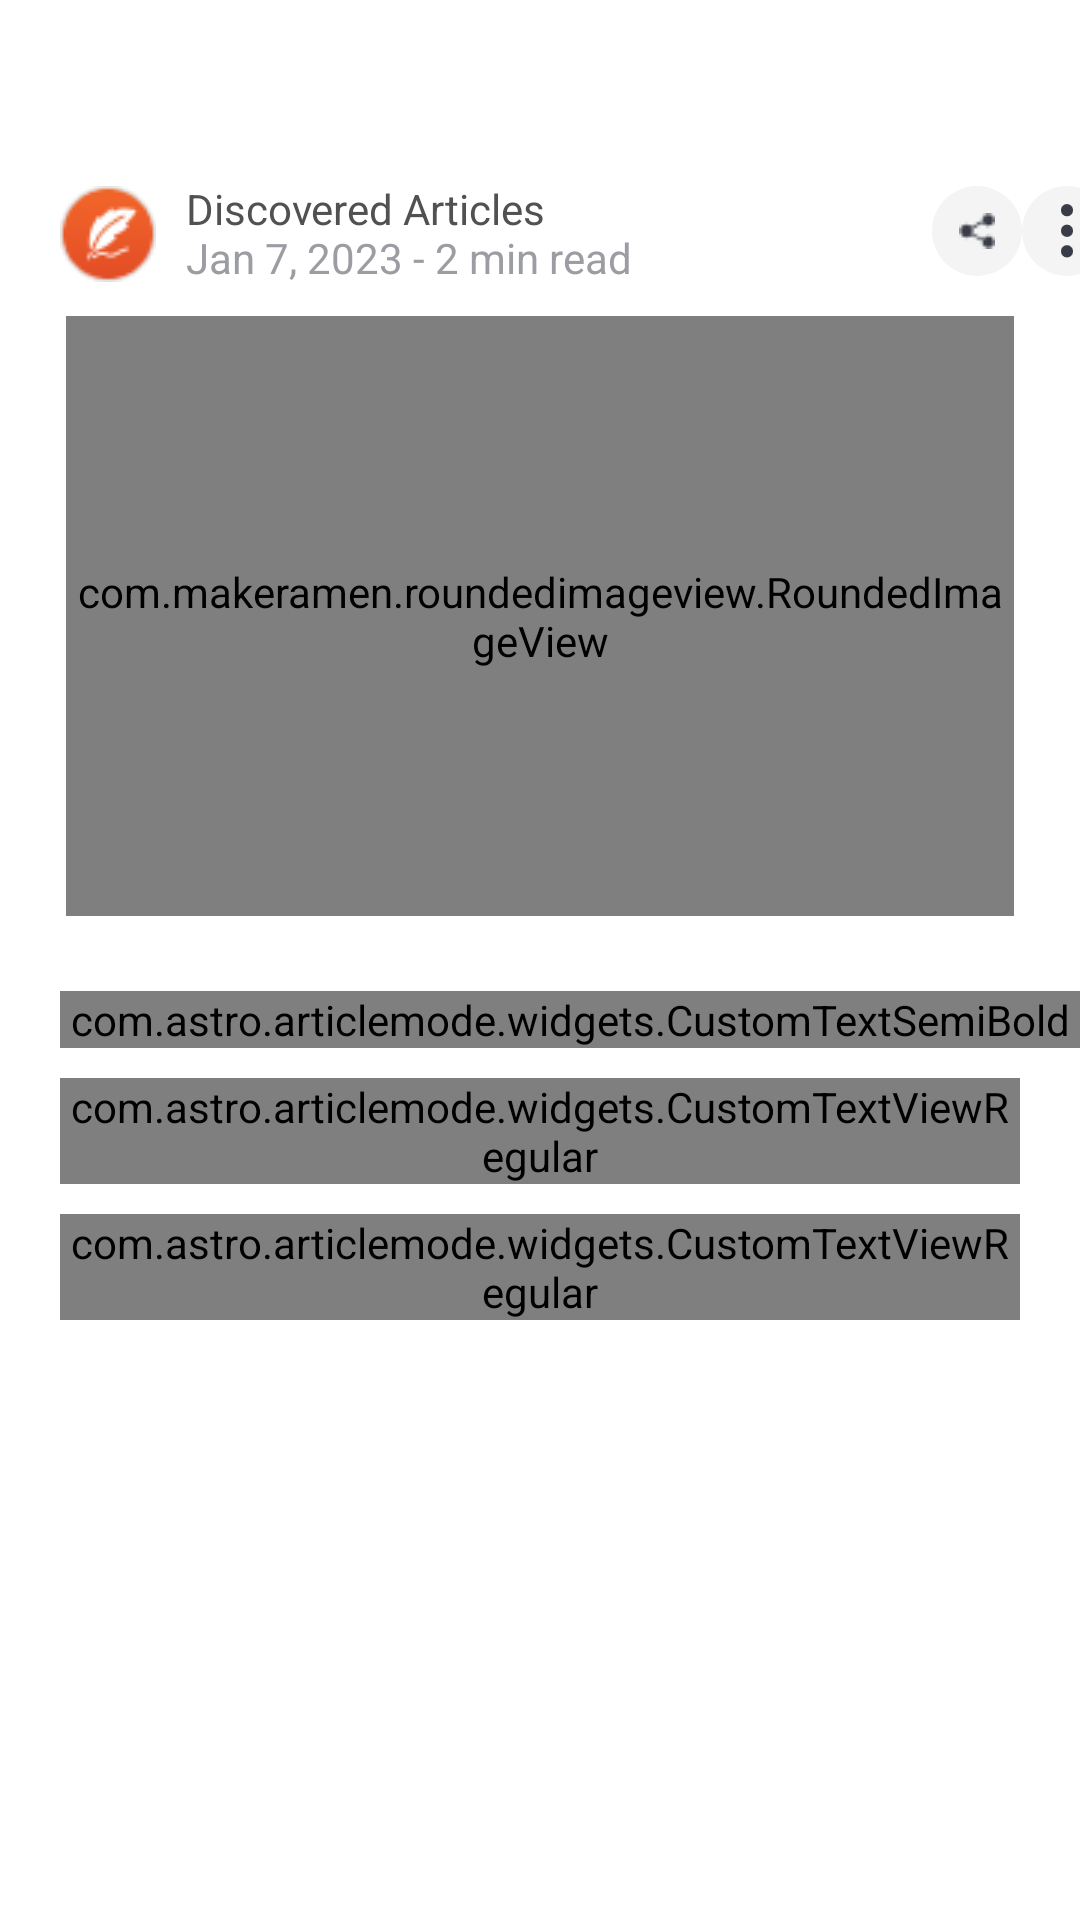

Screen size 1080px×1920px. Icon name, then its box in pixels as region(x1, y1, x2, y2):
articledp: region(60, 186, 156, 282)
share: region(959, 213, 995, 249)
